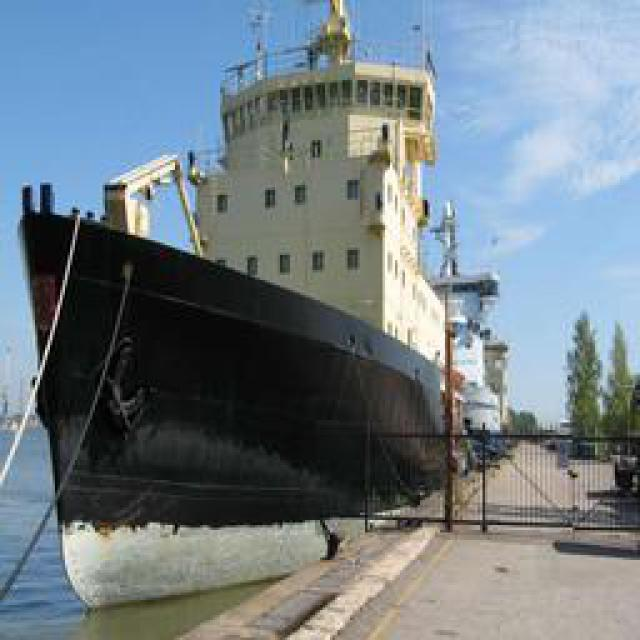Ship: (17, 25, 478, 620)
